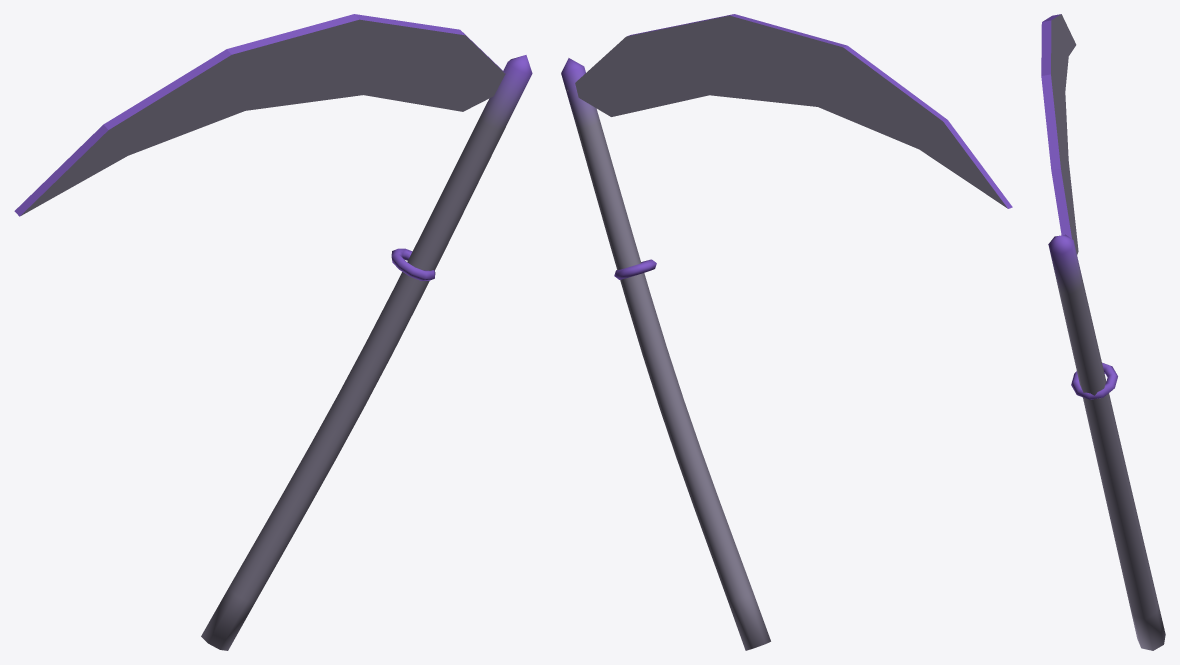
Rendered from dark_scythe_parts.glb.
3 views of the same model, side by side, from view 1: azimuth 30°, elevation 25°; view 2: azimuth 150°, elevation 25°; view 3: azimuth 270°, elevation 25° (orthographic). The views are drawn at different scales.
Visible parts, largest first — view 1: r0_CC_Base_Spine02; view 2: r0_CC_Base_Spine02; view 3: r0_CC_Base_Spine02.
Boxes of the visible parts, <box> form: r0_CC_Base_Spine02: <box>14,14,532,650</box>; r0_CC_Base_Spine02: <box>561,14,1012,650</box>; r0_CC_Base_Spine02: <box>1041,14,1165,650</box>.
Size of the model in its own units: 1 by 1.23 by 0.2276.
